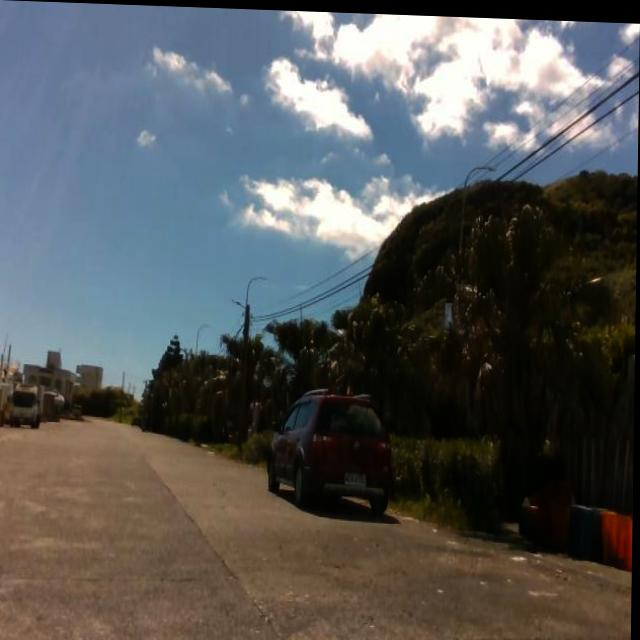pollute: (515, 470, 634, 571)
